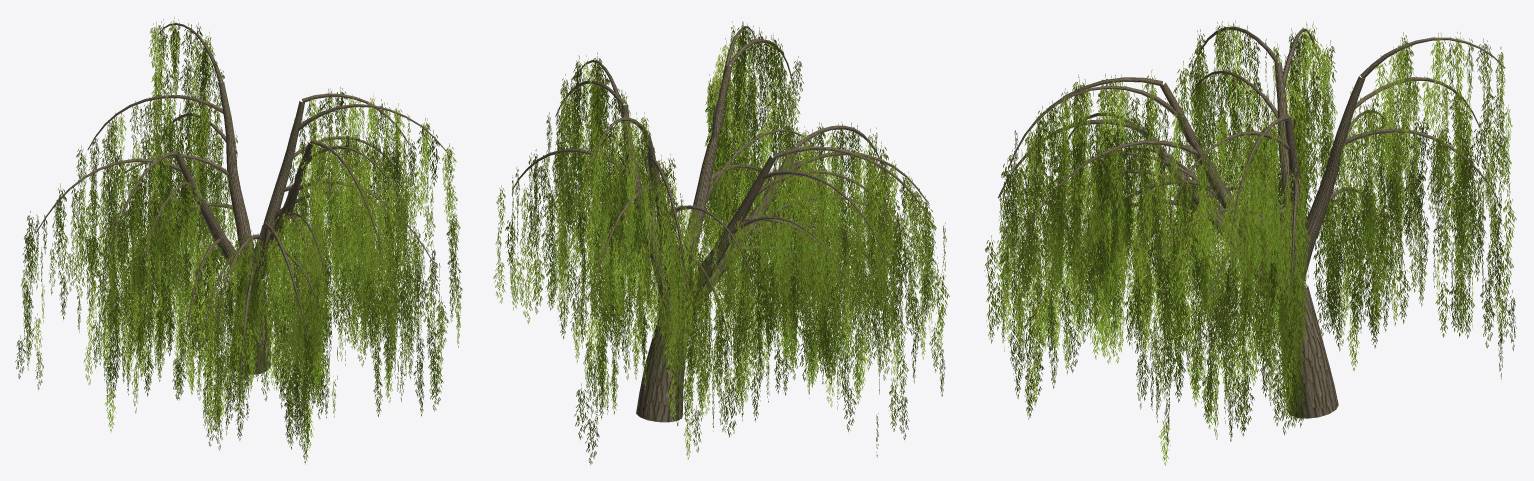
File: tree-willow.glb
3 views of the same model, side by side, from view 1: azimuth 30°, elevation 25°; view 2: azimuth 150°, elevation 25°; view 3: azimuth 270°, elevation 25° (orthographic). The views are drawn at different scales.
Visible parts, largest first — view 1: leaves, bark; view 2: leaves, bark; view 3: leaves, bark.
Boxes of the visible parts, x1=… form: leaves: x1=15, y1=17, x2=462, y2=464; bark: x1=35, y1=23, x2=446, y2=405; leaves: x1=493, y1=21, x2=949, y2=464; bark: x1=512, y1=26, x2=931, y2=422; leaves: x1=984, y1=20, x2=1516, y2=465; bark: x1=998, y1=26, x2=1505, y2=418.
Bounding box in the file's own units: 12.55 × 9.56 × 12.48.
2 materials, 2 textured.
